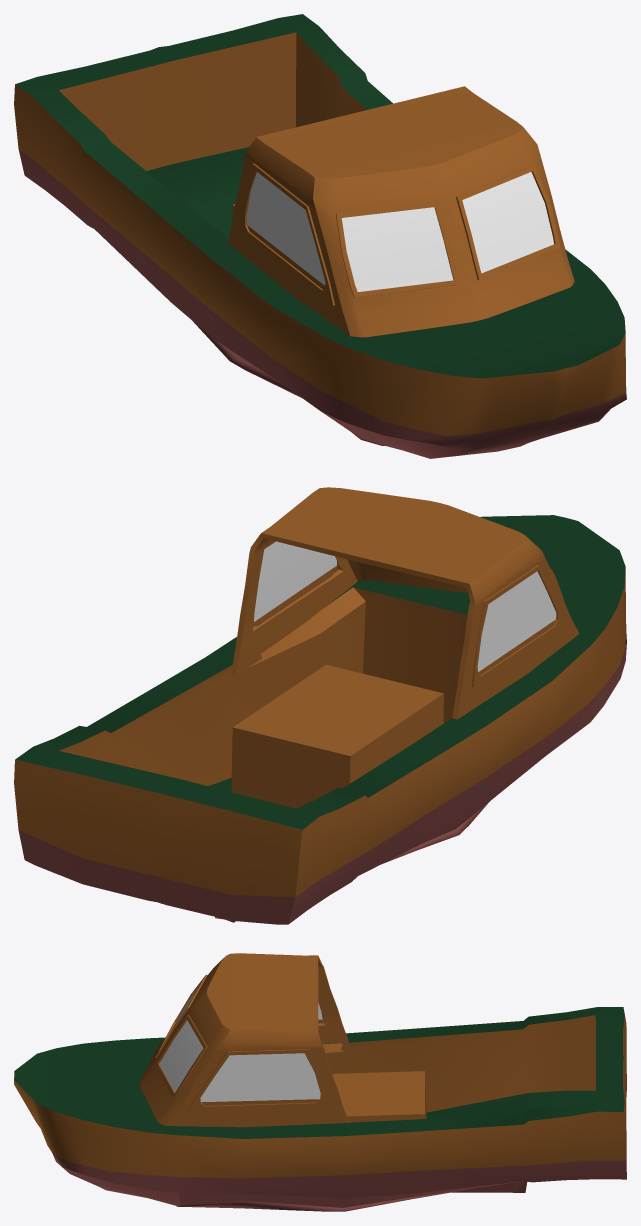
The model's file is BoatModifiedtoMatch.fbx.
The picture shows the model from 3 angles, top to bottom: view 1: azimuth 30°, elevation 25°; view 2: azimuth 150°, elevation 25°; view 3: azimuth 270°, elevation 25°; orthographic projection. The views are drawn at different scales.
Parts seen in each view (by area): view 1: LowerHull, Cabin; view 2: LowerHull, Cabin, Box; view 3: LowerHull, Cabin, Box.
Part boxes in pixels (left/top/right/bottom): LowerHull: left=14, top=14, right=626, bottom=458; Cabin: left=228, top=86, right=574, bottom=337; LowerHull: left=14, top=515, right=626, bottom=924; Cabin: left=231, top=487, right=579, bottom=719; Box: left=231, top=664, right=443, bottom=808; LowerHull: left=14, top=1007, right=626, bottom=1211; Cabin: left=139, top=953, right=350, bottom=1127; Box: left=332, top=1071, right=426, bottom=1122.
Size of the model in its own units: 284 by 250 by 701.
